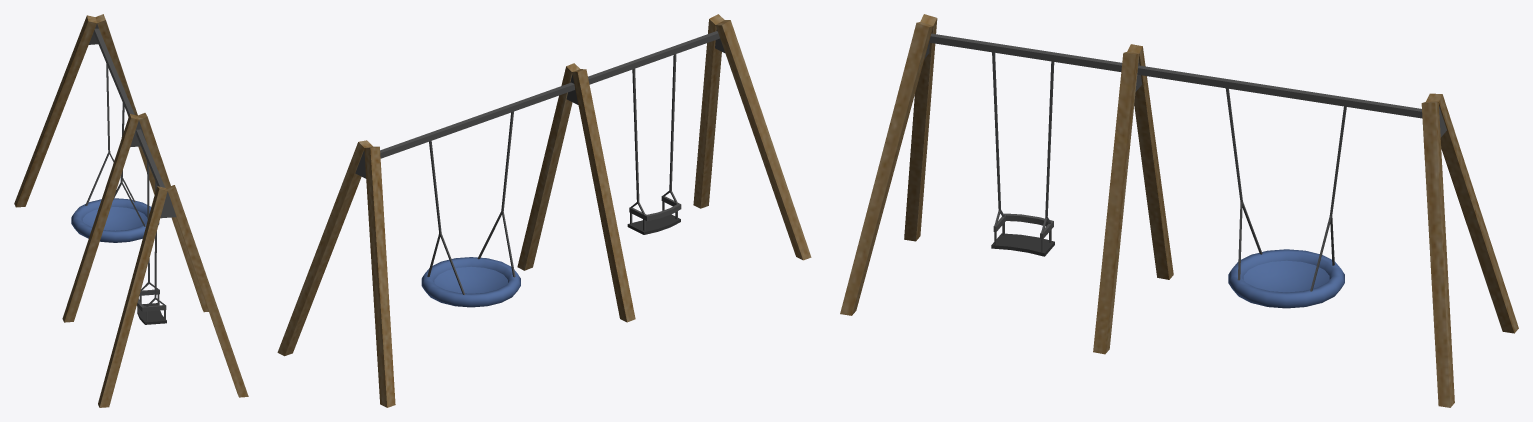
The model's file is качель .glb.
3 renders of one model, left to right at view 1: azimuth 30°, elevation 25°; view 2: azimuth 150°, elevation 25°; view 3: azimuth 270°, elevation 25°, orthographic. The views are drawn at different scales.
Parts seen in each view (by area): view 1: Object013; view 2: Object013; view 3: Object013.
Boxes of the visible parts, bbox=[...] form: Object013: bbox=[14, 14, 248, 407]; Object013: bbox=[277, 14, 811, 407]; Object013: bbox=[840, 14, 1518, 407].
Size of the model in its own units: 3.71 by 2.64 by 6.13.
1 material, 1 textured.
